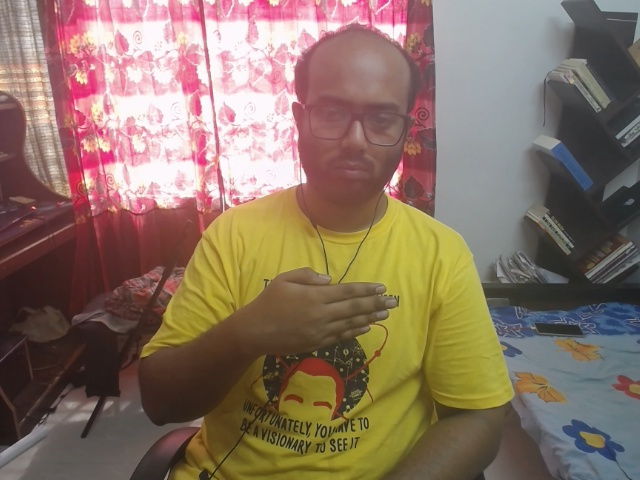north: (239, 254, 413, 392)
